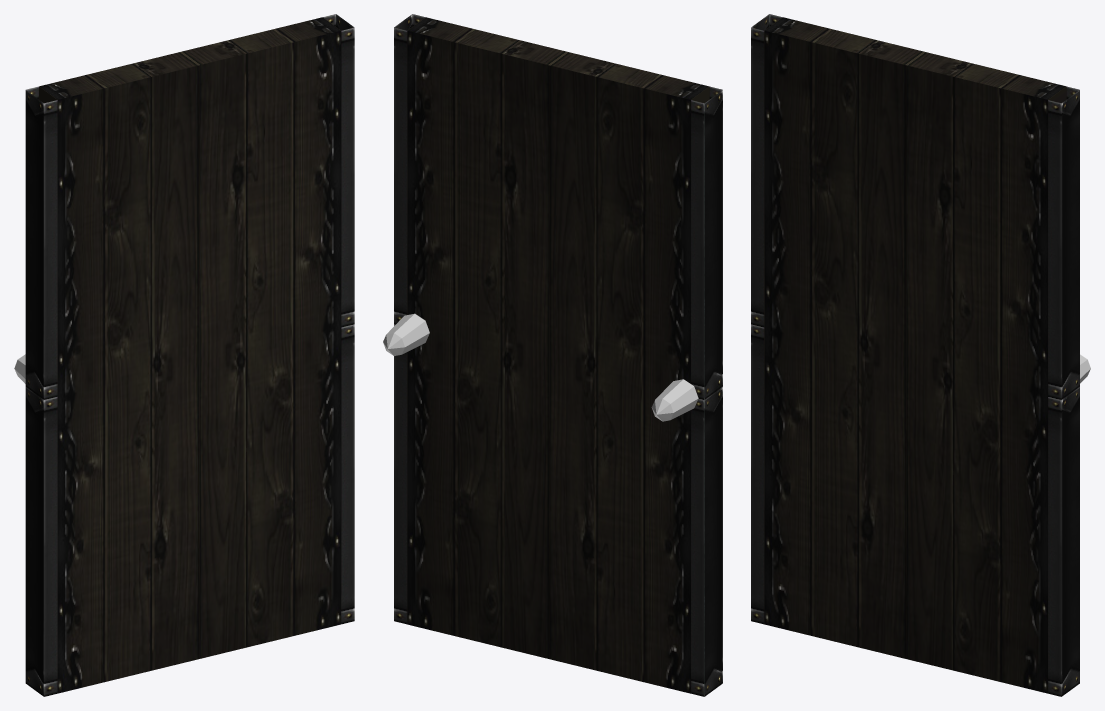
3 views of the same model, side by side, from view 1: azimuth 30°, elevation 25°; view 2: azimuth 150°, elevation 25°; view 3: azimuth 330°, elevation 25° (orthographic).
Visible parts, largest first — view 1: xs_wj32; view 2: xs_wj32; view 3: xs_wj32.
Part boxes in pixels (left/top/right/bottom): xs_wj32: left=14, top=14, right=354, bottom=696; xs_wj32: left=383, top=14, right=722, bottom=696; xs_wj32: left=751, top=14, right=1090, bottom=696.
Size of the model in its own units: 834 by 1524 by 213.
